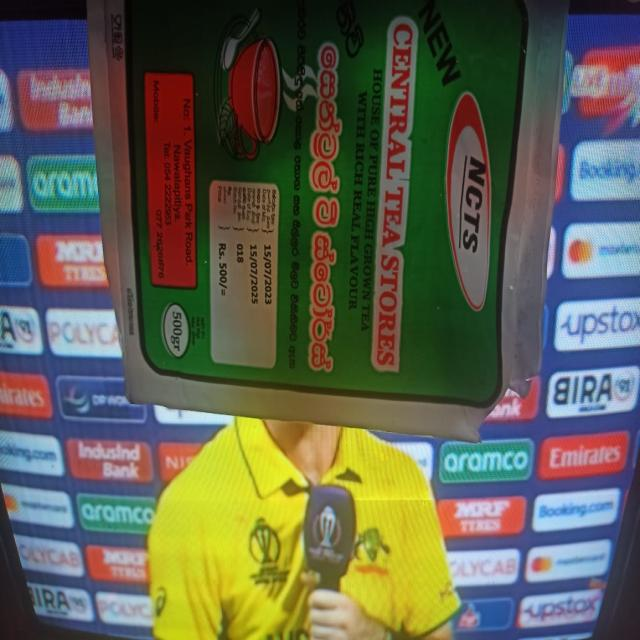Central Tea: (87, 0, 532, 436)
